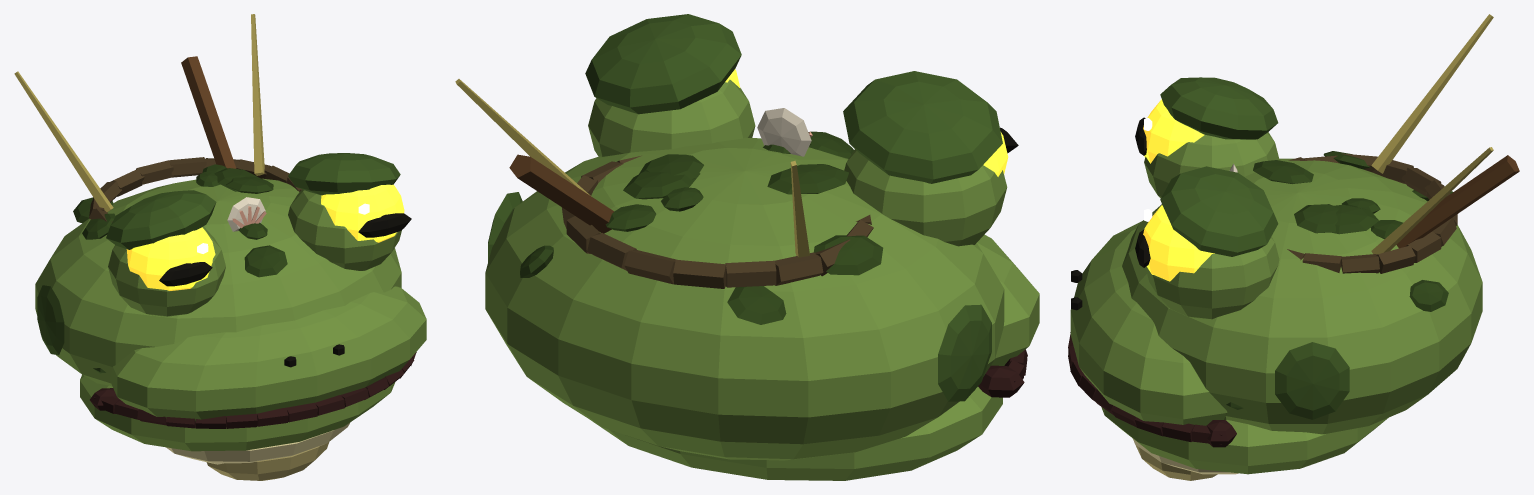
Rendered from pondkin_head.glb.
The picture shows the model from 3 angles, left to right: view 1: azimuth 30°, elevation 25°; view 2: azimuth 150°, elevation 25°; view 3: azimuth 270°, elevation 25°; orthographic projection. The views are drawn at different scales.
Visible parts, largest first — view 1: pondkin_head; view 2: pondkin_head; view 3: pondkin_head.
Part boxes in pixels (<box>): pondkin_head: <box>14,14,426,480</box>; pondkin_head: <box>455,14,1039,480</box>; pondkin_head: <box>1068,14,1519,480</box>.
Size of the model in its own units: 1.24 by 1.19 by 1.26.
